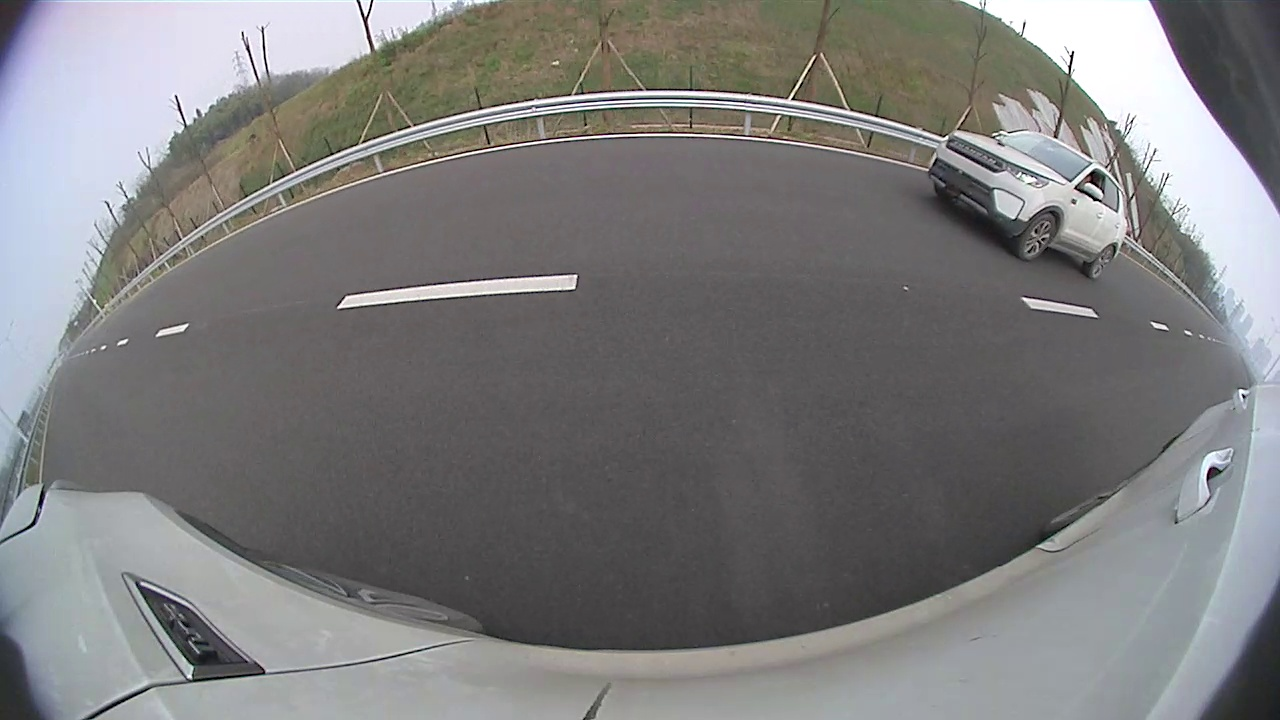car: (928, 131, 1128, 281)
front: (1018, 213, 1059, 262)
rear: (1089, 244, 1117, 278)
